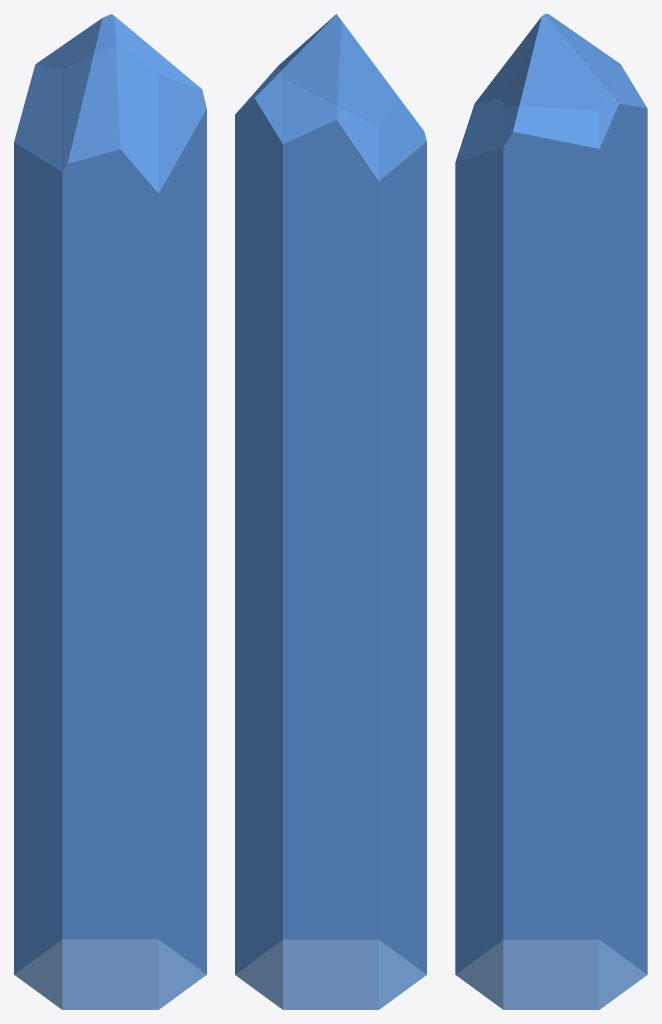
The model's file is Crystal_m_10.fbx.
3 renders of one model, left to right at view 1: azimuth 30°, elevation 25°; view 2: azimuth 150°, elevation 25°; view 3: azimuth 270°, elevation 25°, orthographic.
Visible parts, largest first — view 1: Crystal_m_10; view 2: Crystal_m_10; view 3: Crystal_m_10.
Part boxes in pixels (bbox=[...]): Crystal_m_10: bbox=[14, 14, 206, 1009]; Crystal_m_10: bbox=[235, 14, 426, 1009]; Crystal_m_10: bbox=[455, 14, 647, 1009].
Bounding box in the file's own units: 37.83 × 241 × 43.68.
